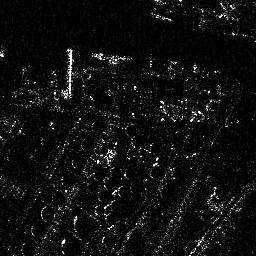ship: (91, 50, 133, 66)
